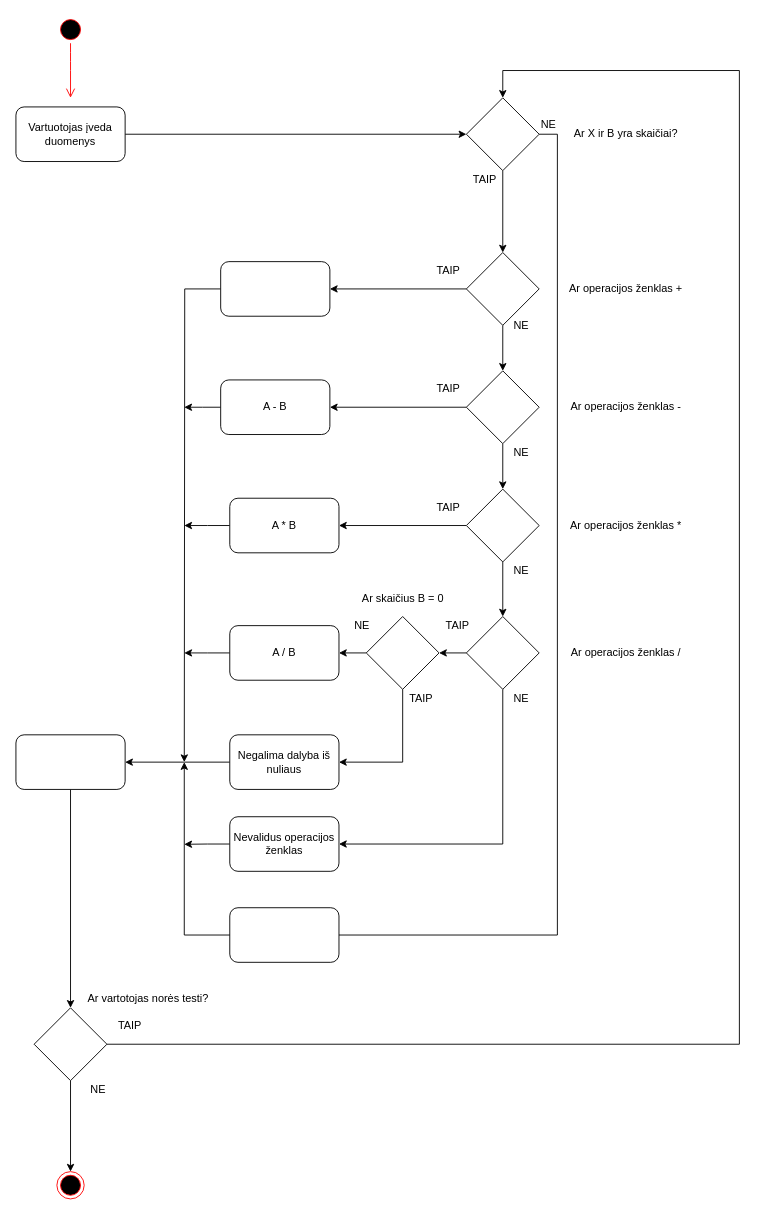
This 763x1215 diagram has some shape labels left out. Here are the shapes that lost their labels. From the top down, the centre of each, then its label:
At (x=275, y=288): "A + B".
At (x=70, y=761): "Pranešimo išvedimas".
At (x=284, y=934): "A ir B turi būti skaičiai".
